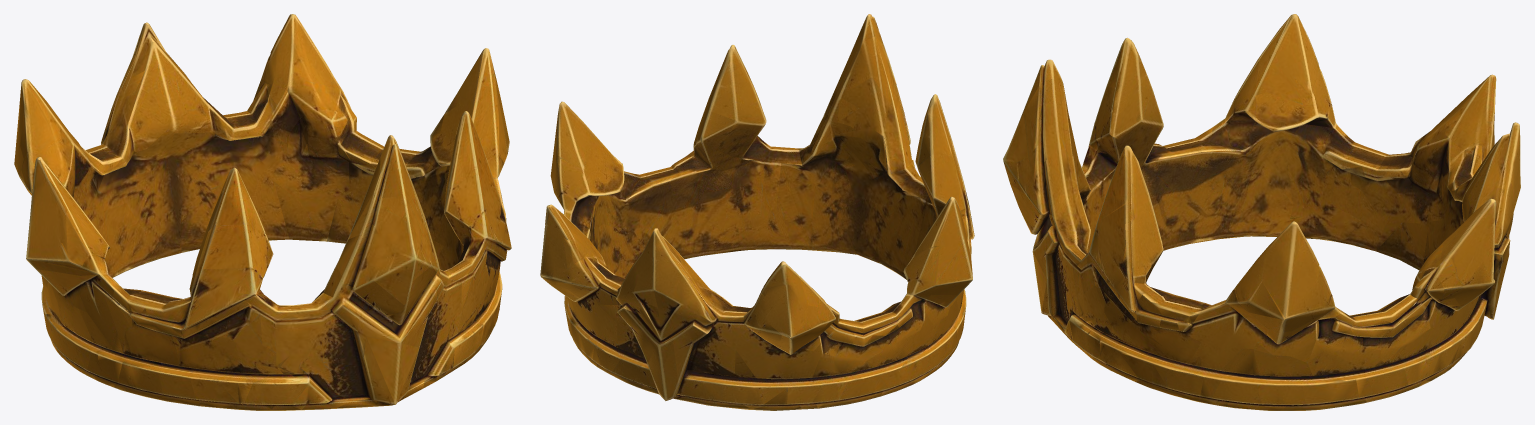
File: crown.glb
3 renders of one model, left to right at view 1: azimuth 30°, elevation 25°; view 2: azimuth 150°, elevation 25°; view 3: azimuth 270°, elevation 25°, orthographic. The views are drawn at different scales.
Parts seen in each view (by area): view 1: Mesh_0; view 2: Mesh_0; view 3: Mesh_0.
Part boxes in pixels (left/top/right/bottom): Mesh_0: left=14, top=14, right=511, bottom=410; Mesh_0: left=540, top=14, right=974, bottom=410; Mesh_0: left=1003, top=14, right=1520, bottom=410.
Bounding box in the file's own units: 1.9 × 1.04 × 1.85.
Materials: 1 (1 with a texture image).
